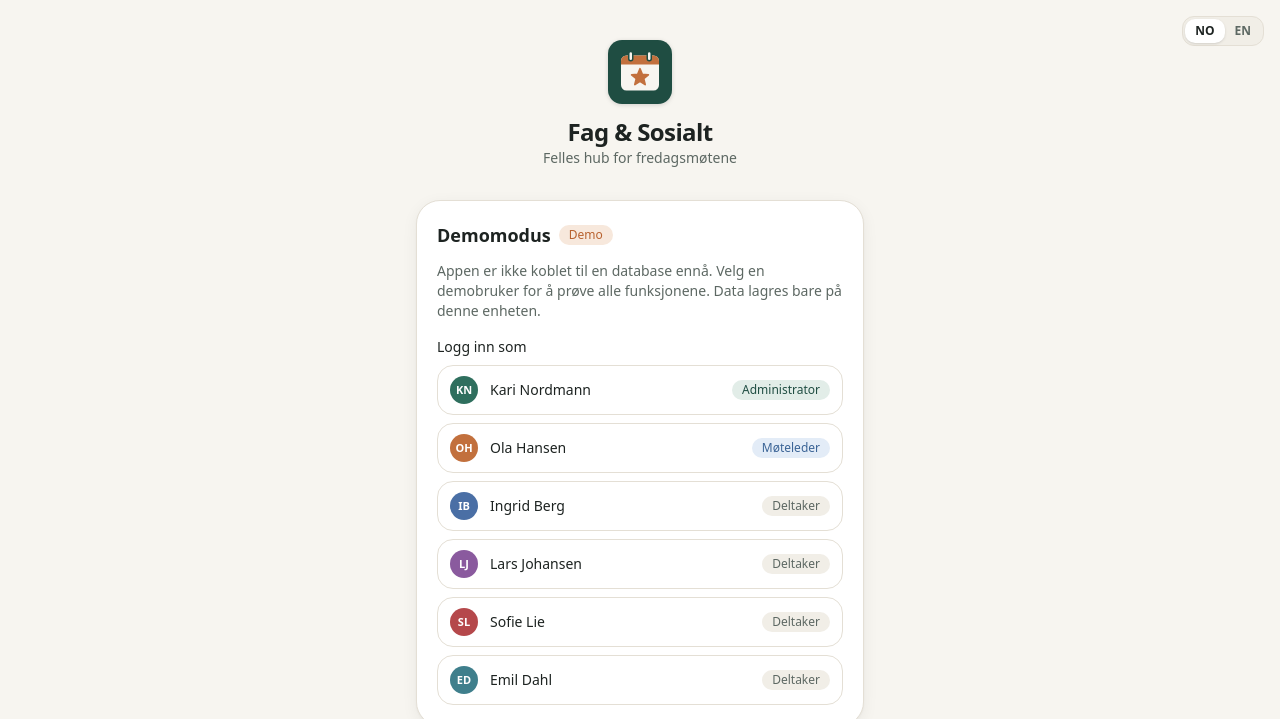
Test case: Fag & Sosialt app (demo backend) › switches language to English
Click the button "KN Kari Nordmann Administrator".
click(541, 390)  # box [437,365,843,415]
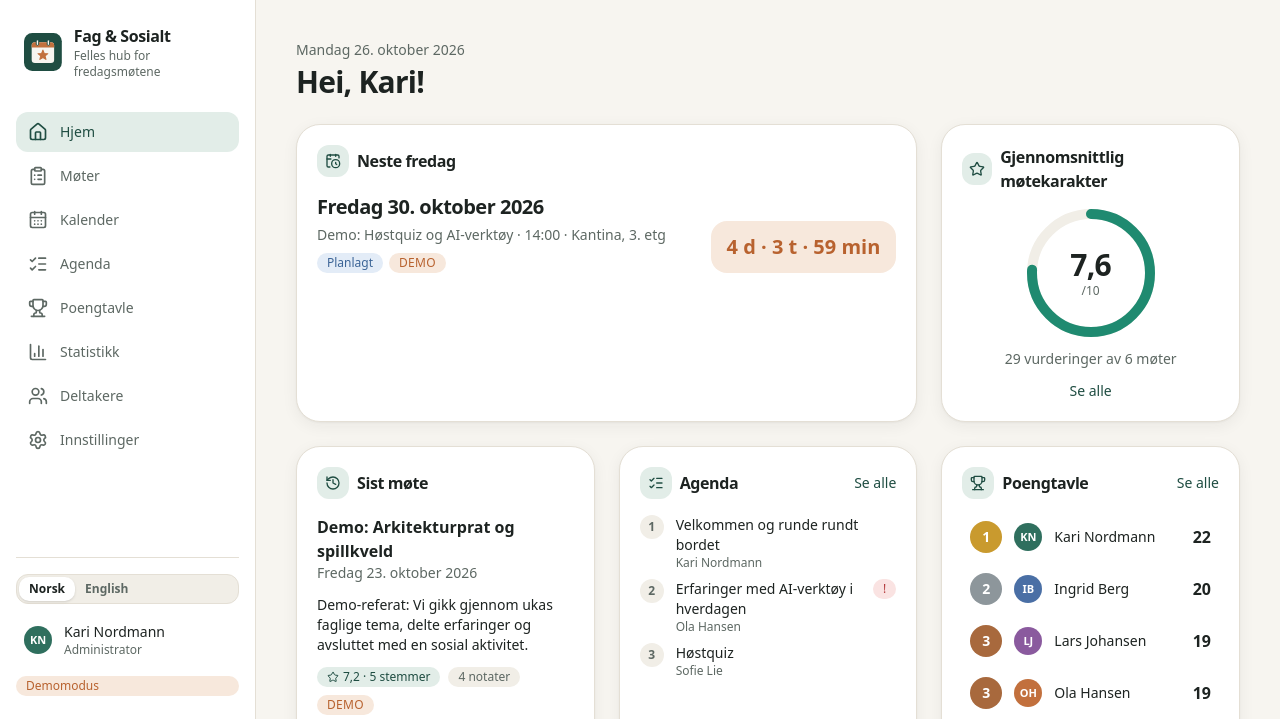
Result: the heading "Hei, Kari!" is shown at [296,61,424,102]
Click the button "English".
click(107, 589)  # box [75,577,138,601]
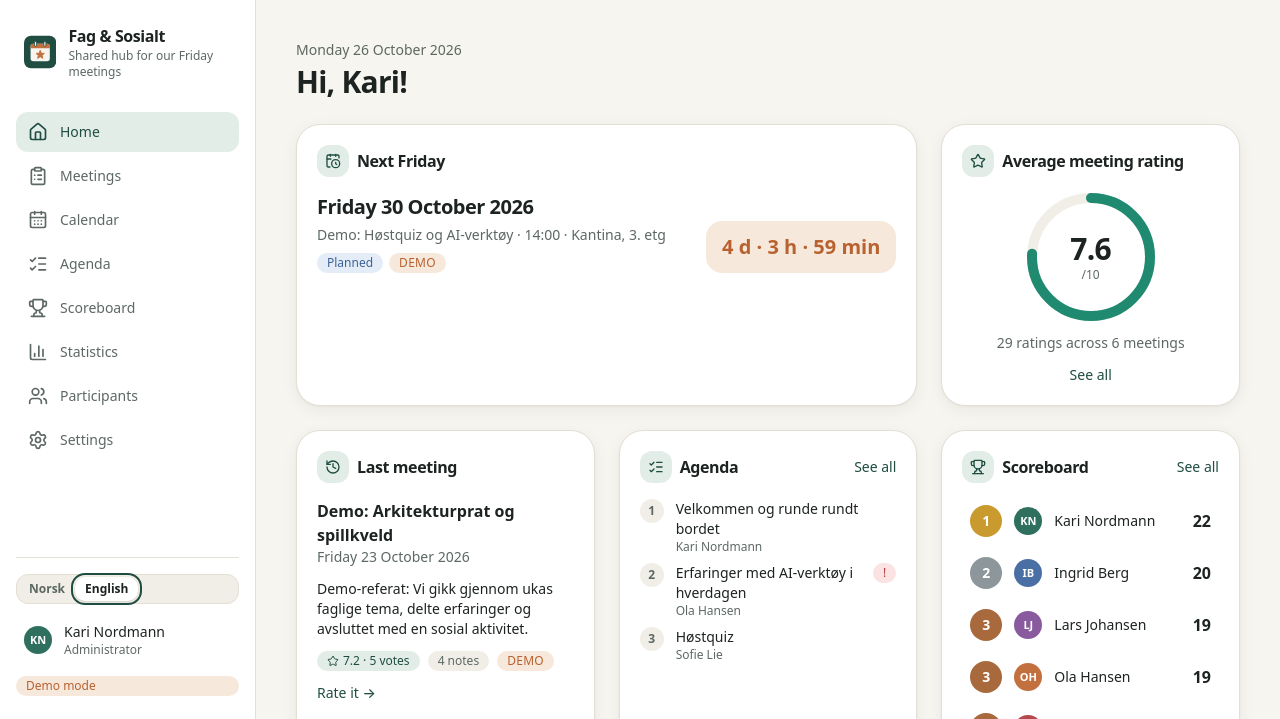
Result: the heading "Hi, Kari!" is shown at [296,61,407,102]
